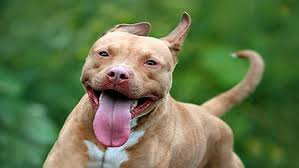Perro Pitbull: (67, 12, 197, 163)
